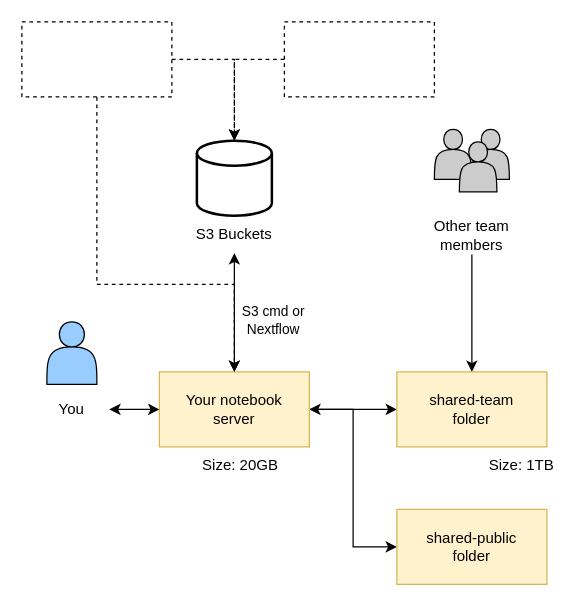
Image size: 581x606. Some labels were removed from this diagram. Here are the shapes that lost their labels. From the top down, the centre of each, then its label:
At [96,59]: "Your local computer".
At [358,59]: "External websites or databases".
